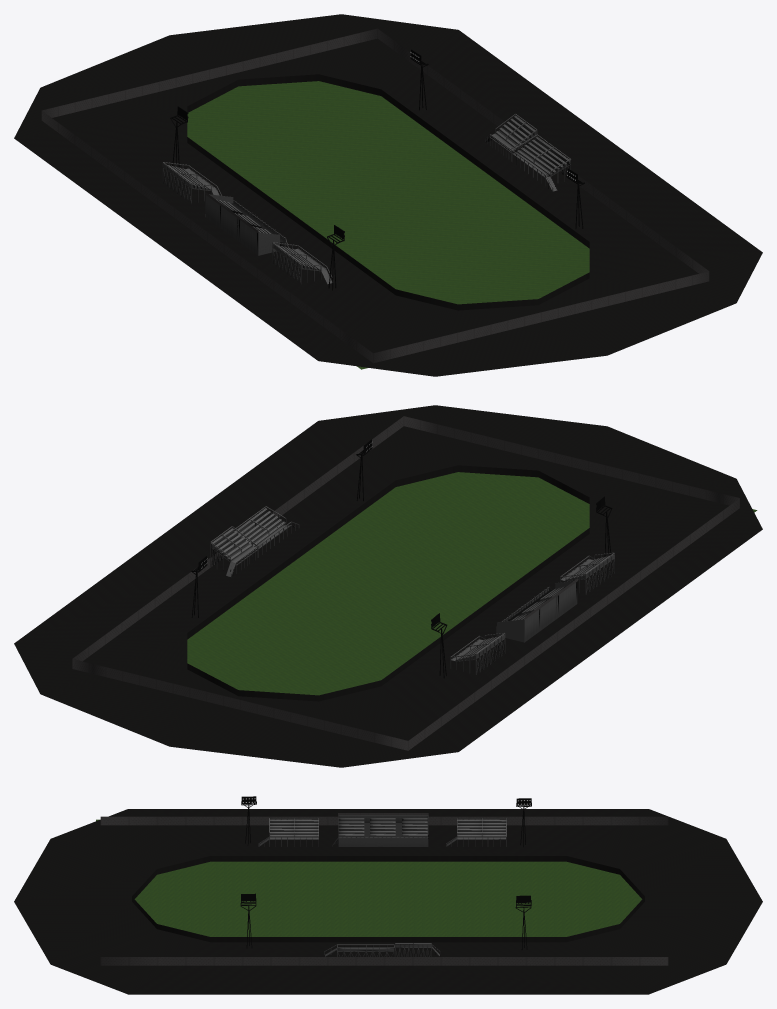
File: StadiumLevel.fbx
3 renders of one model, top to bottom at view 1: azimuth 30°, elevation 25°; view 2: azimuth 150°, elevation 25°; view 3: azimuth 270°, elevation 25°, orthographic. The views are drawn at different scales.
Parts seen in each view (by area): view 1: polySurface3, polySurface1, polySurface136, polySurface138, polySurface79, polySurface82, polySurface81, polySurface78; view 2: polySurface3, polySurface1, polySurface136, polySurface138, polySurface78, polySurface79, polySurface81, polySurface82; view 3: polySurface3, polySurface1, polySurface136, polySurface138, polySurface81, polySurface82, polySurface79, polySurface78.
Part boxes in pixels (x1=…): polySurface3: x1=14, y1=14, x2=762, y2=376; polySurface1: x1=187, y1=81, x2=589, y2=369; polySurface136: x1=41, y1=28, x2=709, y2=363; polySurface138: x1=205, y1=194, x2=288, y2=255; polySurface79: x1=511, y1=134, x2=571, y2=191; polySurface82: x1=272, y1=242, x2=333, y2=284; polySurface81: x1=162, y1=162, x2=221, y2=204; polySurface78: x1=485, y1=114, x2=537, y2=161; polySurface3: x1=14, y1=405, x2=762, y2=767; polySurface1: x1=187, y1=472, x2=757, y2=695; polySurface136: x1=72, y1=416, x2=739, y2=750; polySurface138: x1=496, y1=581, x2=577, y2=642; polySurface78: x1=210, y1=526, x2=257, y2=577; polySurface79: x1=234, y1=506, x2=299, y2=557; polySurface81: x1=450, y1=633, x2=505, y2=674; polySurface82: x1=560, y1=552, x2=614, y2=594; polySurface3: x1=14, y1=809, x2=762, y2=994; polySurface1: x1=96, y1=819, x2=642, y2=936; polySurface136: x1=100, y1=816, x2=668, y2=965; polySurface138: x1=332, y1=815, x2=428, y2=846; polySurface81: x1=446, y1=818, x2=506, y2=846; polySurface82: x1=258, y1=818, x2=318, y2=846; polySurface79: x1=324, y1=944, x2=394, y2=956; polySurface78: x1=395, y1=943, x2=440, y2=956.
Bounding box in the file's own units: 21.46 × 3.4 × 36.58.
